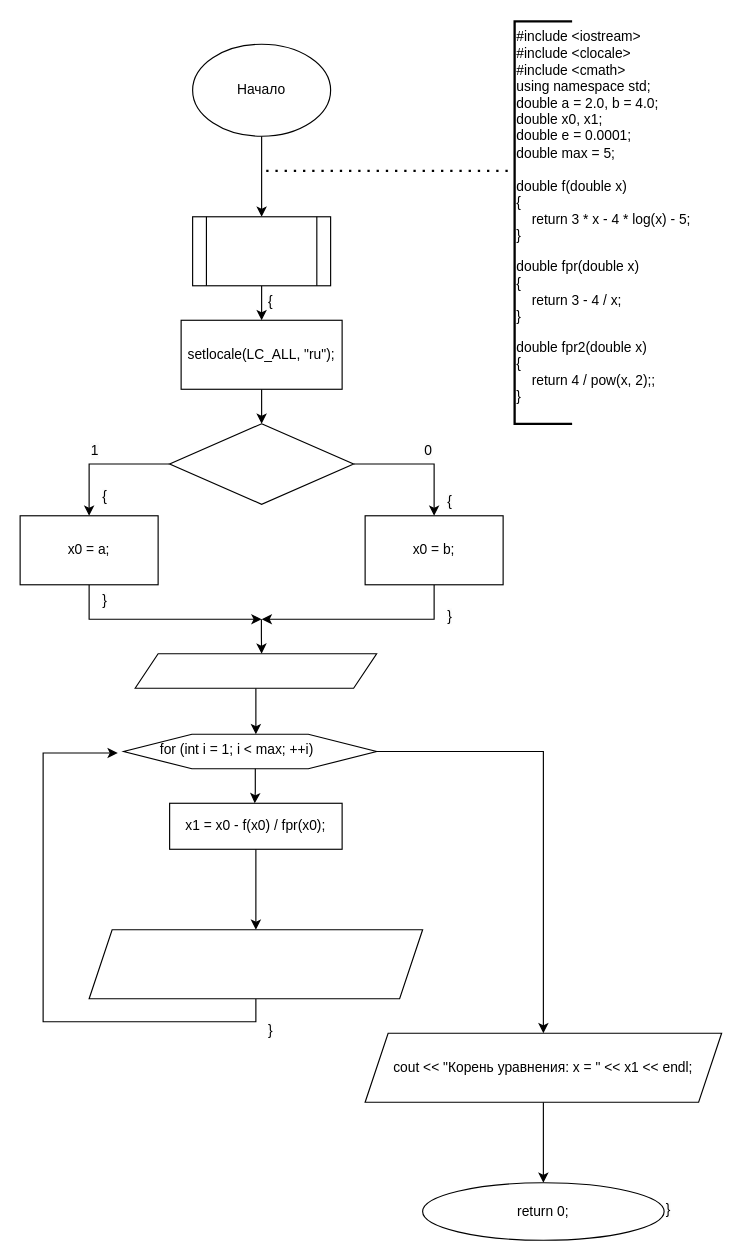
Image size: 742x1260. Some labels were removed from this diagram. The centre of each missing label's shape, as x and y in pixels:
cout << "x0 = " << x0 << endl;: (255,670)
cout << "Итерация " << i << ": x = " << x1 << endl;: (255,964)
if (f(a) * fpr2(a) > 0): (261,463)
int main(): (261,251)
